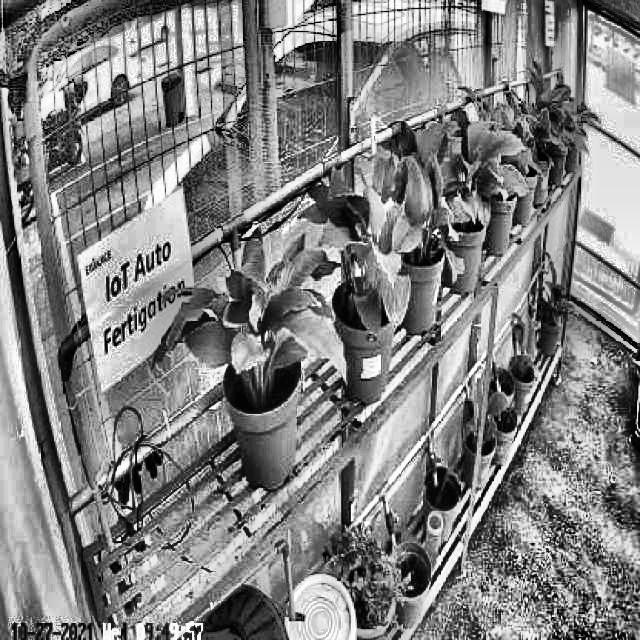plants: (149, 228, 351, 410), (297, 177, 411, 340), (357, 126, 465, 283), (401, 103, 527, 234)
